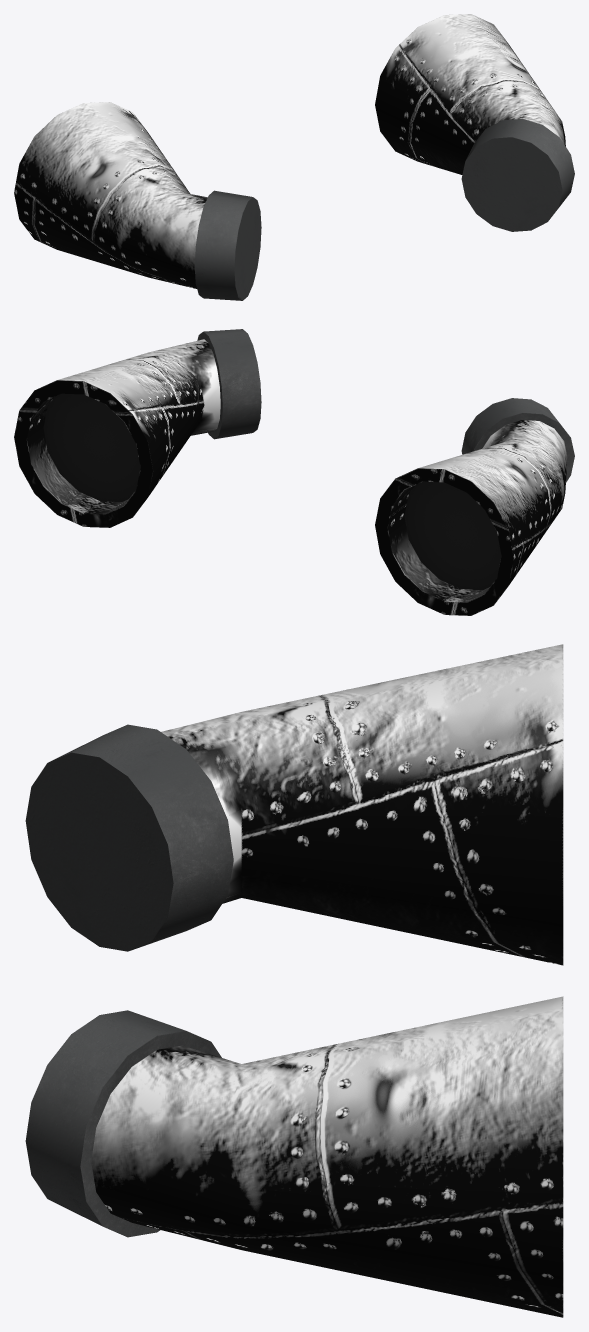
Rendered from nozzle2NEW.fbx.
3 renders of one model, top to bottom at view 1: azimuth 30°, elevation 25°; view 2: azimuth 150°, elevation 25°; view 3: azimuth 270°, elevation 25°, orthographic. The views are drawn at different scales.
Visible parts, largest first — view 1: nozzle2; view 2: nozzle2; view 3: nozzle2.
Part boxes in pixels (<box>): nozzle2: <box>14,14,574,300</box>; nozzle2: <box>14,329,574,615</box>; nozzle2: <box>25,644,563,1317</box>.
Bounding box in the file's own units: 5.07 × 2.36 × 1.41.
